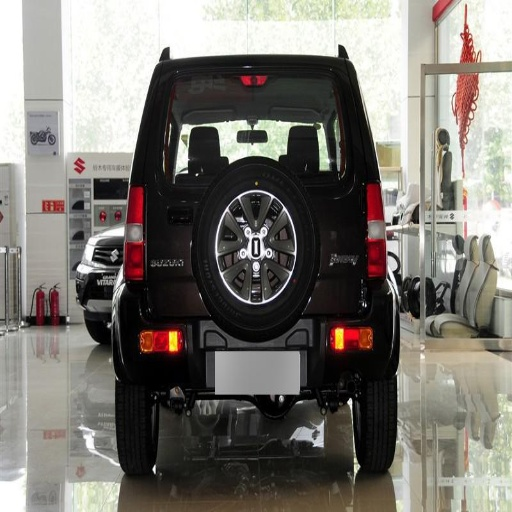trunk: (211, 99, 354, 244), (150, 158, 209, 309)
